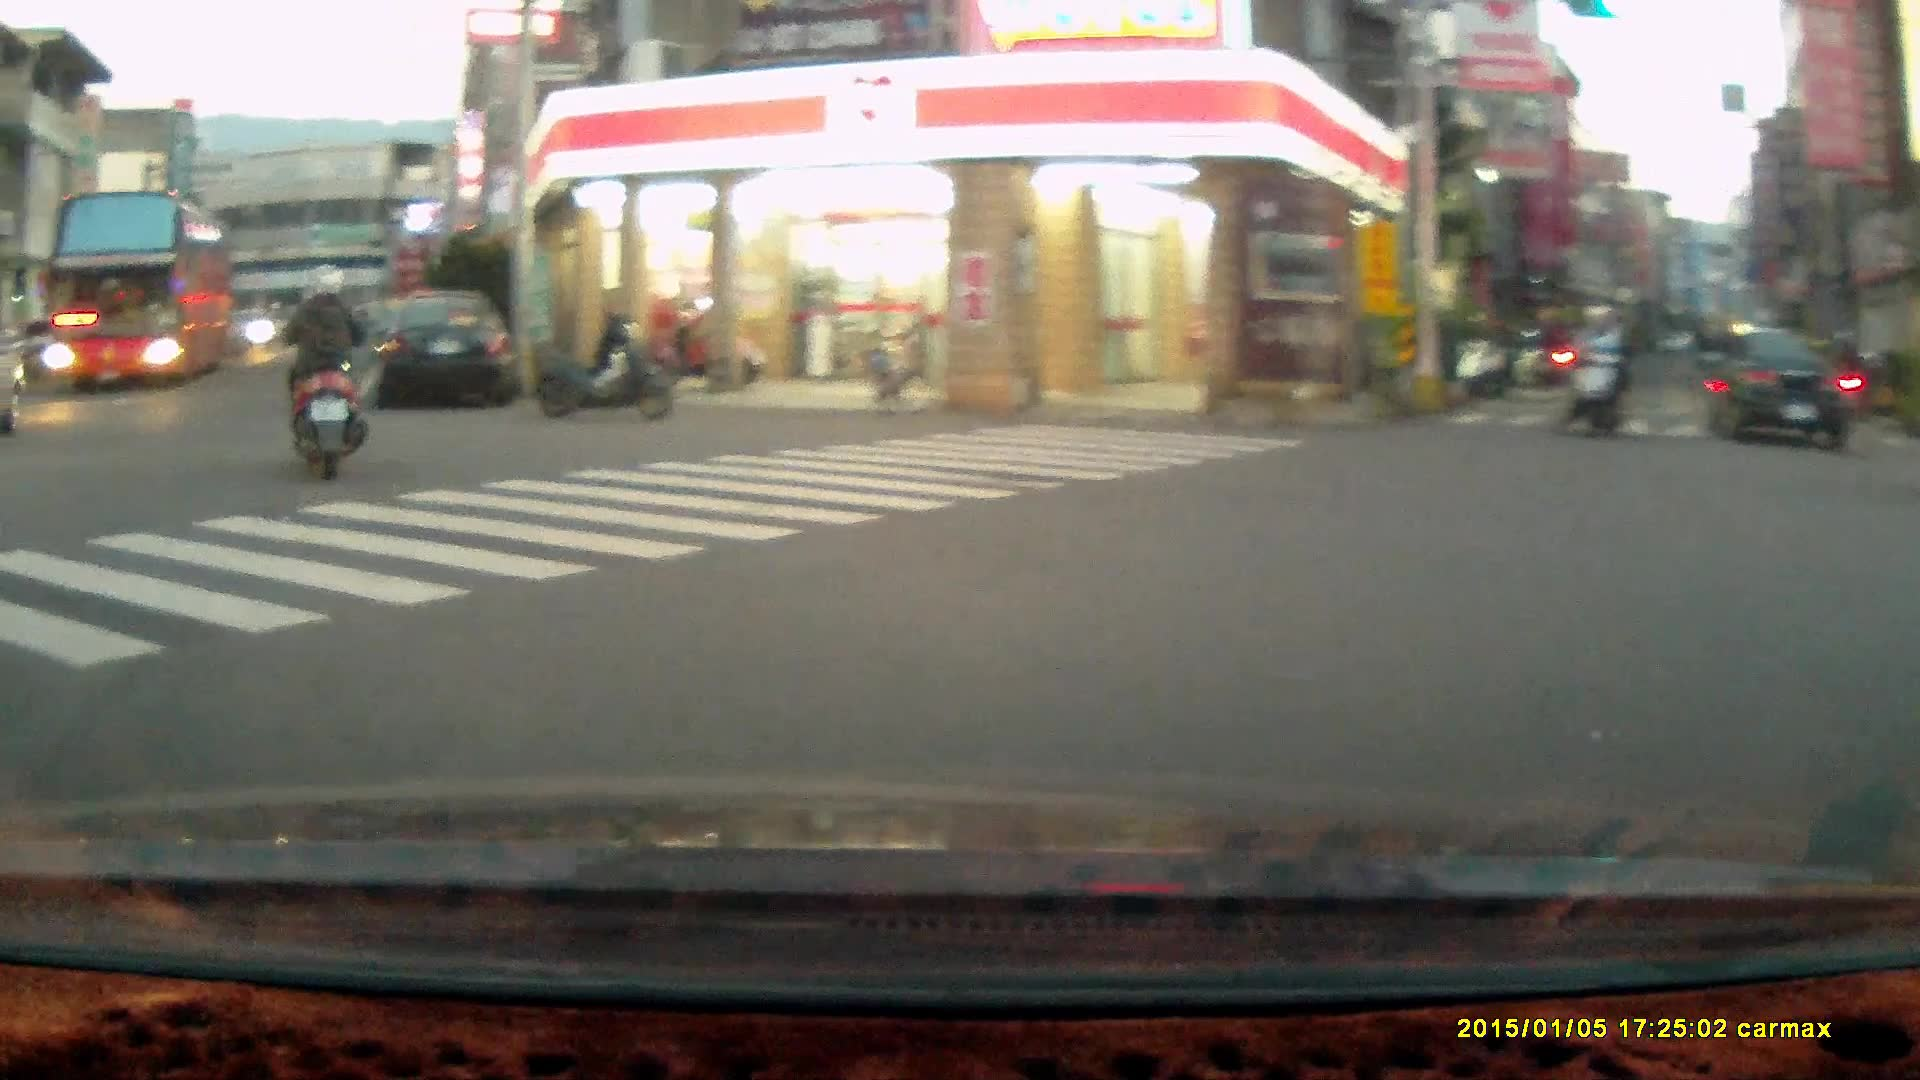rider: (276, 263, 373, 486), (1557, 299, 1628, 442)
vehicle: (46, 192, 234, 391), (1702, 328, 1859, 454), (371, 291, 519, 407)
